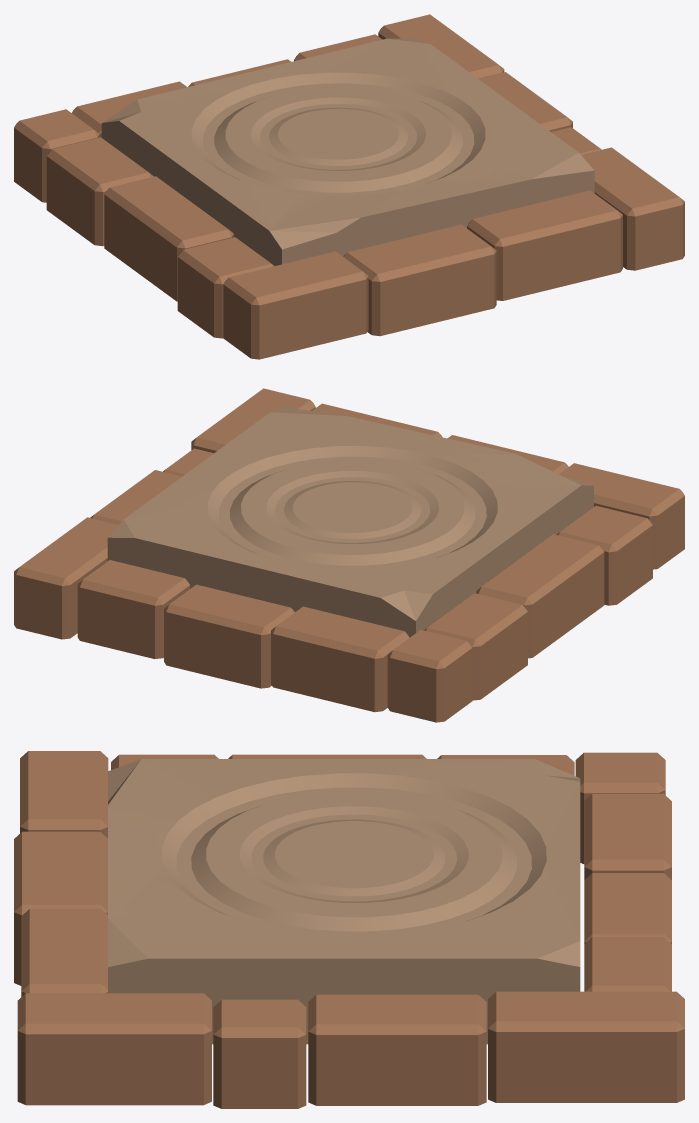
File: PressurePlate.fbx
The picture shows the model from 3 angles, top to bottom: view 1: azimuth 30°, elevation 25°; view 2: azimuth 150°, elevation 25°; view 3: azimuth 270°, elevation 25°; orthographic projection. The views are drawn at different scales.
Visible parts, largest first — view 1: polySurface326_lambert1_0, polySurface326_lambert1_0.001; view 2: polySurface326_lambert1_0, polySurface326_lambert1_0.001; view 3: polySurface326_lambert1_0, polySurface326_lambert1_0.001.
Part boxes in pixels (<box>): polySurface326_lambert1_0: <box>14,14,684,359</box>; polySurface326_lambert1_0.001: <box>94,38,594,266</box>; polySurface326_lambert1_0: <box>14,388,684,722</box>; polySurface326_lambert1_0.001: <box>107,407,593,637</box>; polySurface326_lambert1_0: <box>14,751,684,1108</box>; polySurface326_lambert1_0.001: <box>108,759,583,1044</box>.
Size of the model in its own units: 78.96 by 15.86 by 80.49.
